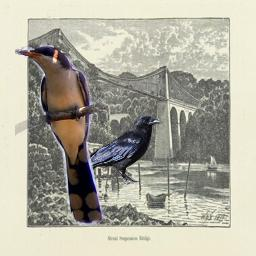Crow: (66, 113, 163, 188)
Cuckoo: (15, 45, 106, 227)
